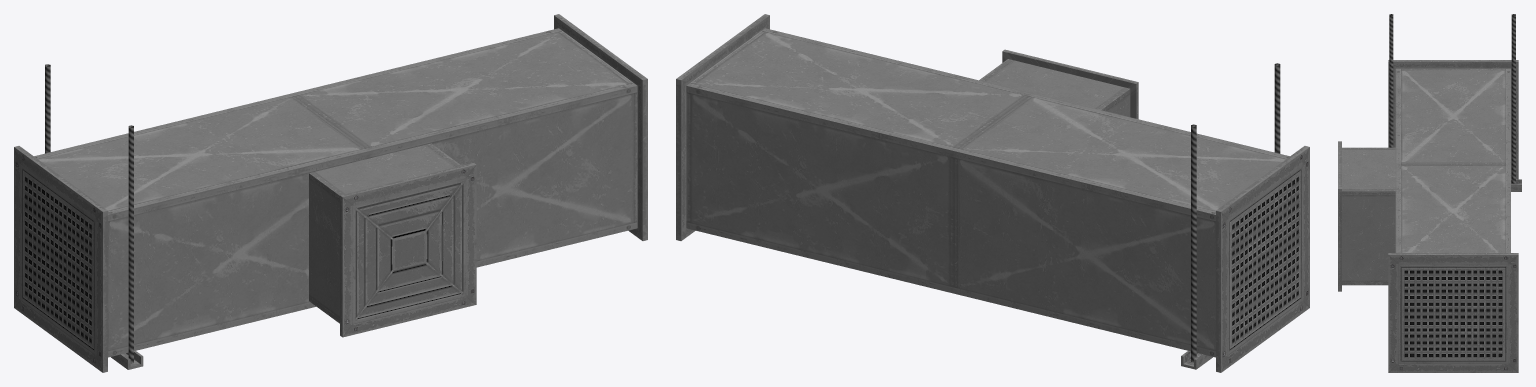
Rendered from HH_Ventilation_2m_03.fbx.
The picture shows the model from 3 angles, left to right: view 1: azimuth 30°, elevation 25°; view 2: azimuth 150°, elevation 25°; view 3: azimuth 270°, elevation 25°; orthographic projection. The views are drawn at different scales.
Parts seen in each view (by area): view 1: HH_Ventilation_2m_03; view 2: HH_Ventilation_2m_03; view 3: HH_Ventilation_2m_03.
Part boxes in pixels (x1,y1,x2,y2): HH_Ventilation_2m_03: (14,14,647,372); HH_Ventilation_2m_03: (676,14,1309,372); HH_Ventilation_2m_03: (1338,14,1521,372).
Size of the model in its own units: 200 by 83.44 by 79.7.
